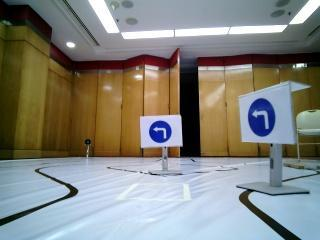left: (244, 95, 288, 142), (142, 117, 180, 144)
